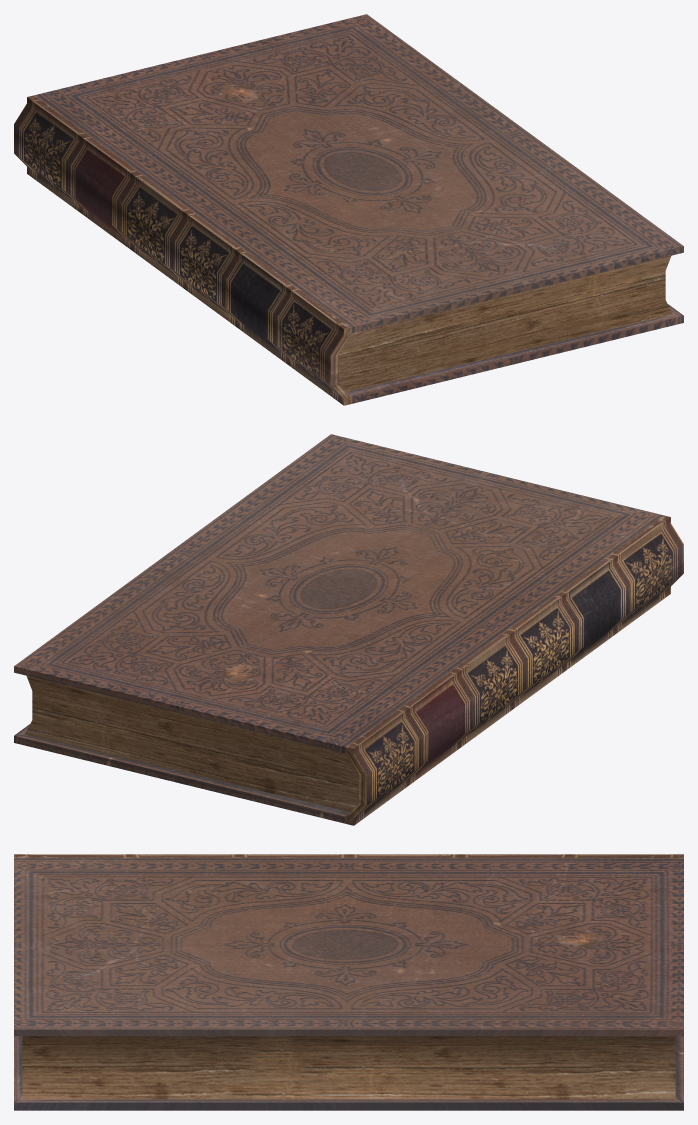
Rendered from book.FBX.
3 views of the same model, one above another, from view 1: azimuth 30°, elevation 25°; view 2: azimuth 150°, elevation 25°; view 3: azimuth 270°, elevation 25° (orthographic). The views are drawn at different scales.
Visible parts, largest first — view 1: Box001; view 2: Box001; view 3: Box001.
Boxes of the visible parts, <box> form: Box001: <box>14,14,683,405</box>; Box001: <box>14,434,683,825</box>; Box001: <box>14,854,683,1110</box>.
Bounding box in the file's own units: 35.98 × 7.47 × 56.
1 material, 1 textured.
